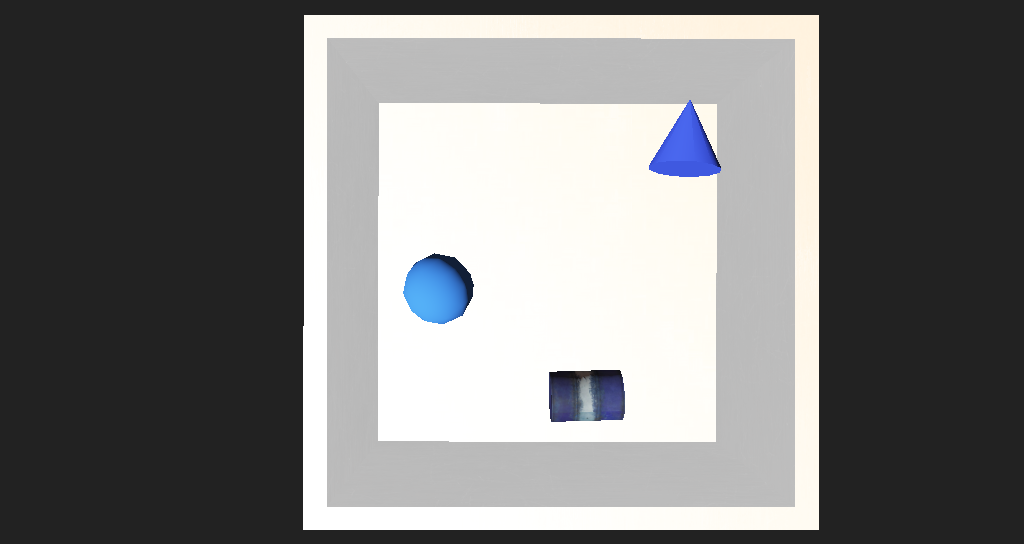cone: (505, 324, 573, 363)
cylinder: (596, 150, 670, 212)
sphere: (381, 260, 441, 303)
